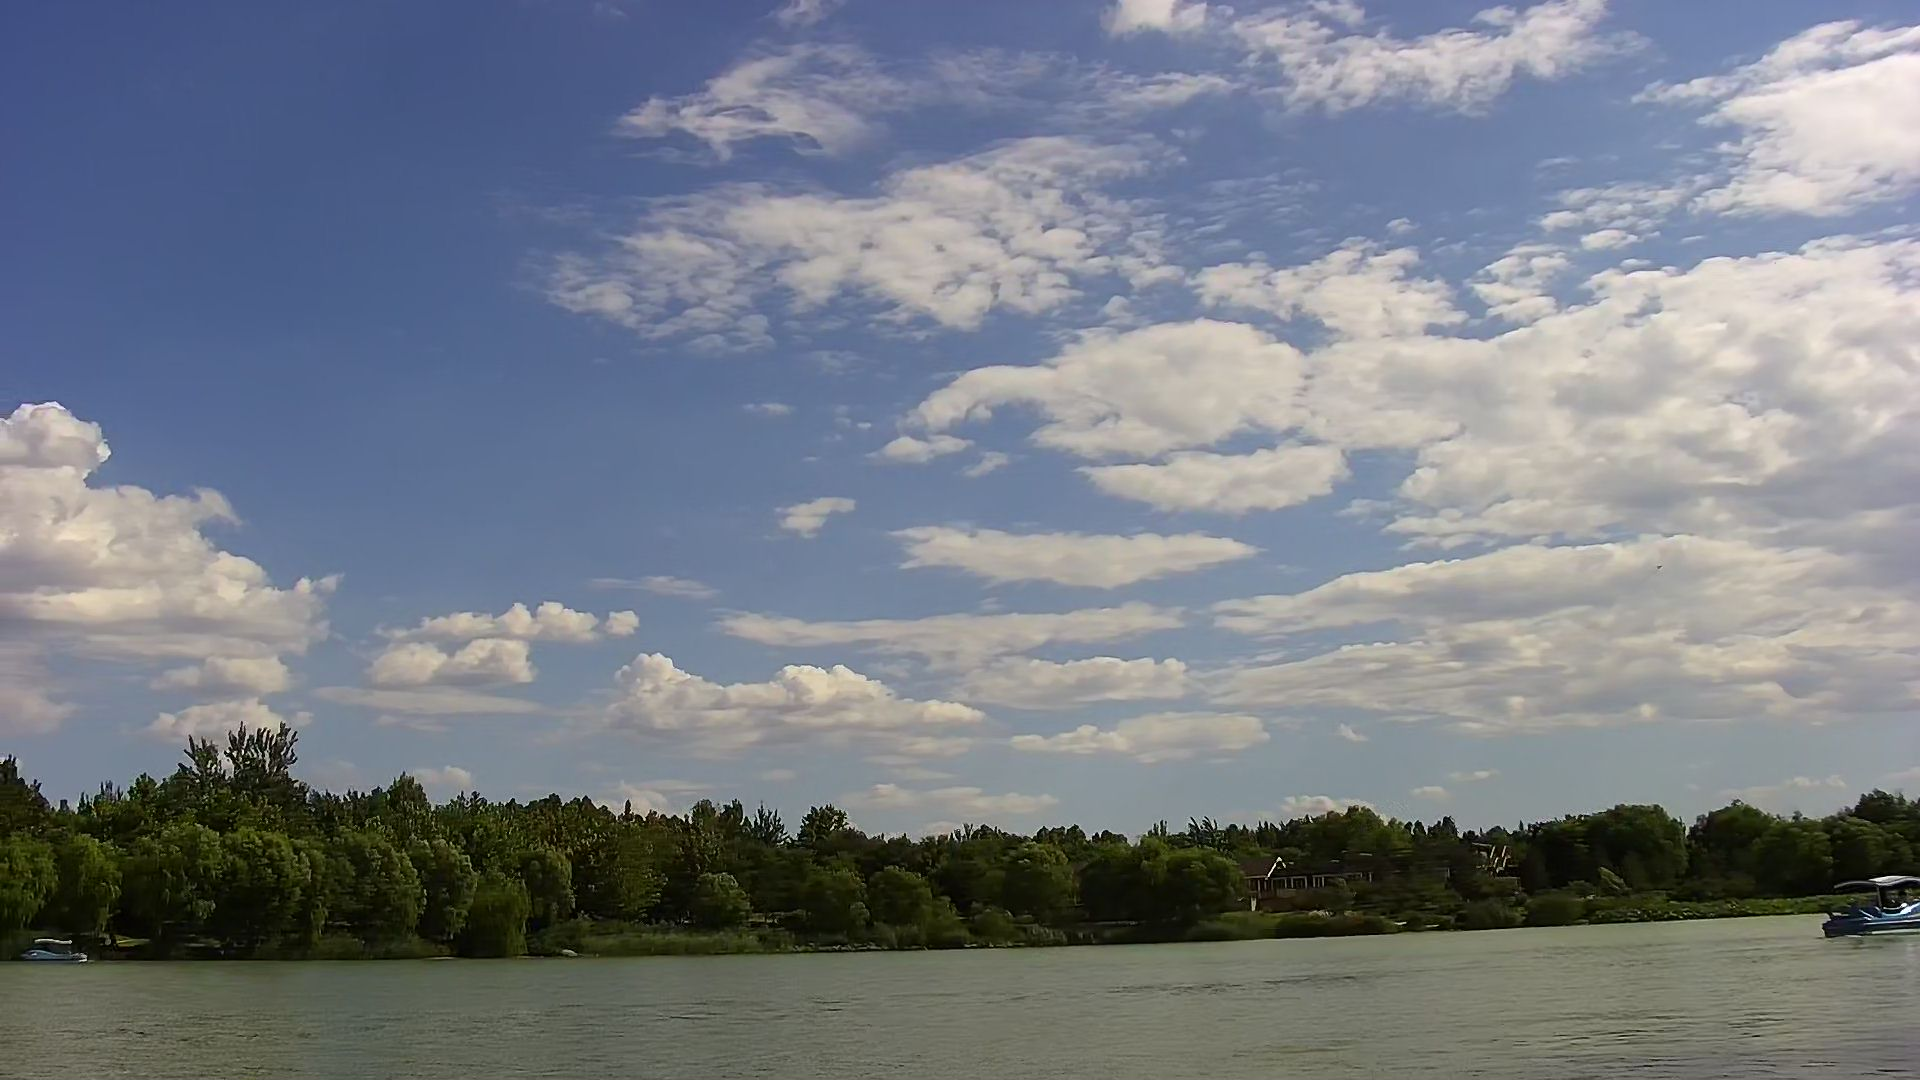boat: (1821, 872, 1920, 945), (12, 938, 91, 968)
